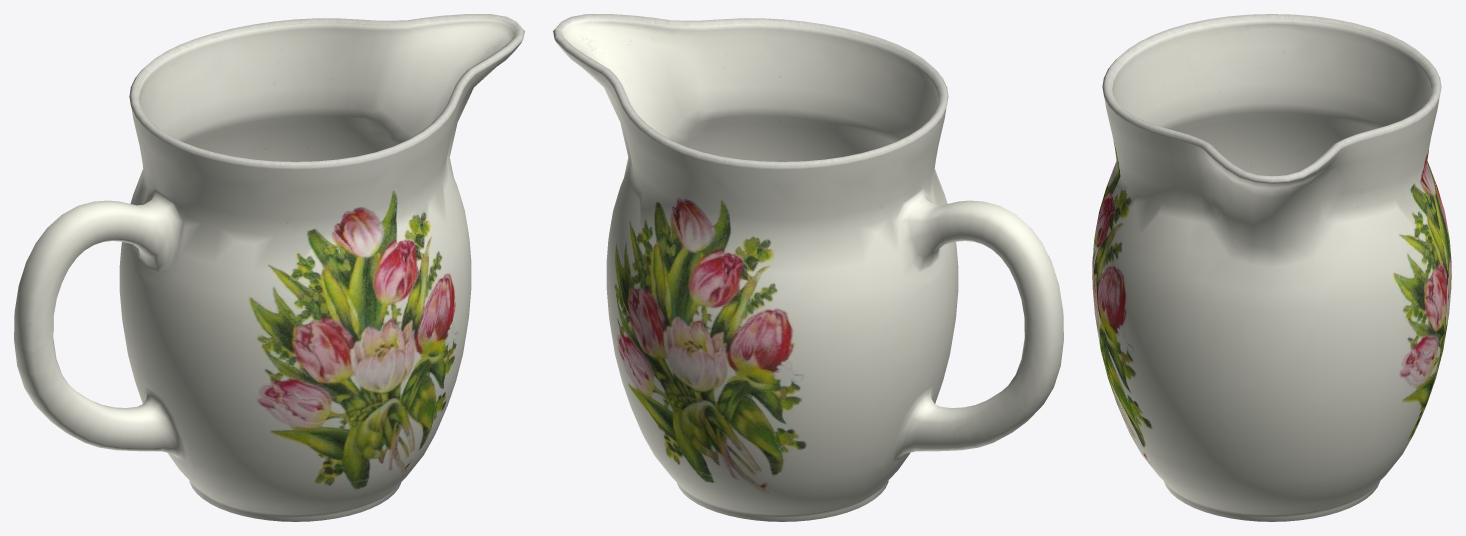
Rendered from jug_01.glb.
The picture shows the model from 3 angles, left to right: view 1: azimuth 30°, elevation 25°; view 2: azimuth 150°, elevation 25°; view 3: azimuth 270°, elevation 25°; orthographic projection. The views are drawn at different scales.
Parts seen in each view (by area): view 1: jug_01; view 2: jug_01; view 3: jug_01.
Part boxes in pixels (bbox=[...]): jug_01: bbox=[14, 14, 524, 521]; jug_01: bbox=[553, 14, 1063, 521]; jug_01: bbox=[1092, 14, 1451, 521].
Size of the model in its own units: 0.2753 by 0.2113 by 0.1675.
Materials: 1 (1 with a texture image).
